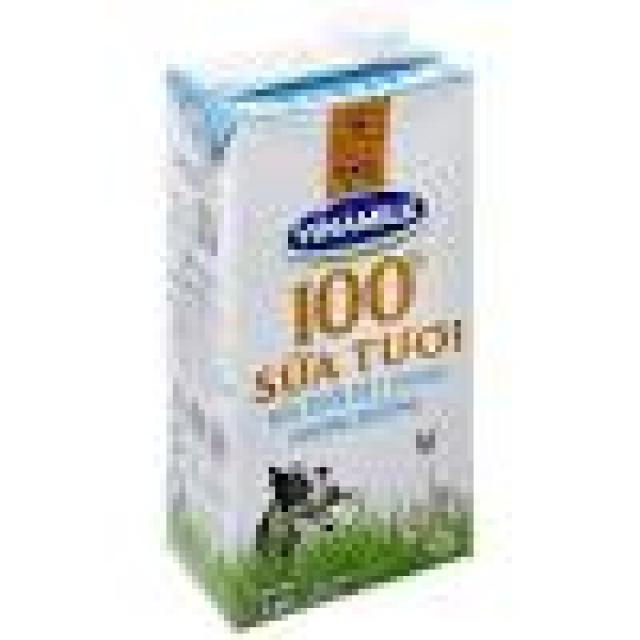non_white_jug: (144, 22, 490, 605)
